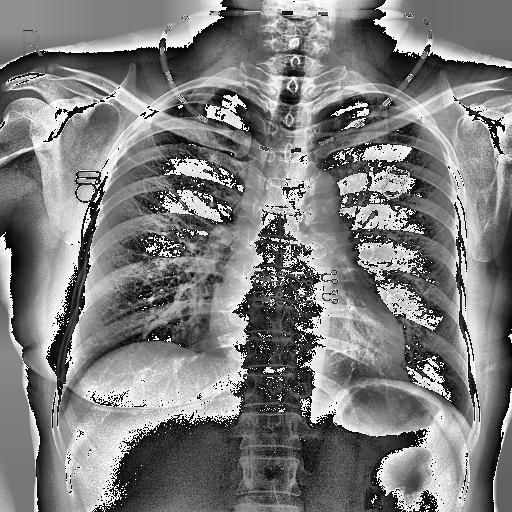11- Pleural thickening: (116, 106, 156, 162), (122, 106, 164, 156)
13- Pulmonary fibrosis: (117, 146, 189, 210), (126, 158, 182, 204), (139, 165, 189, 216)
